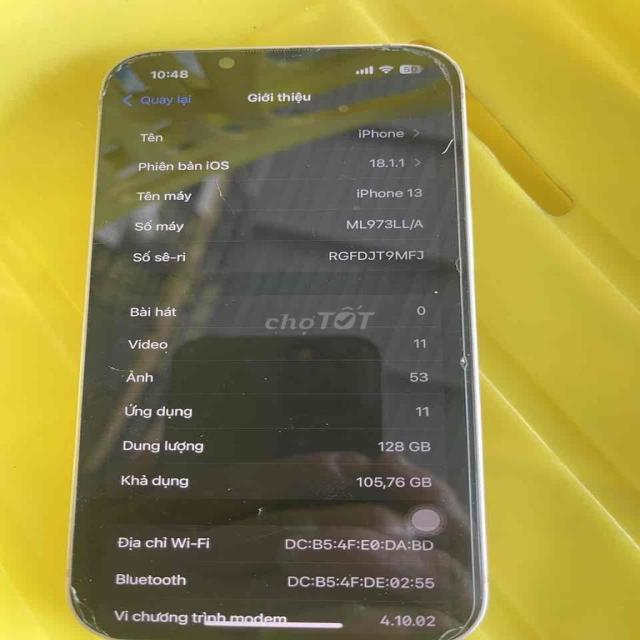physical_damage: (347, 32, 481, 168), (370, 573, 476, 639), (86, 38, 154, 112), (53, 566, 123, 636), (433, 318, 479, 378)
